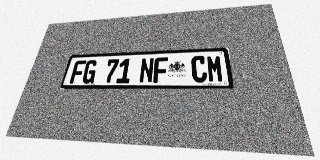1: (116, 58, 132, 83)
7: (103, 59, 119, 83)
C: (191, 55, 207, 83)
F: (69, 60, 86, 84), (153, 57, 168, 83)
G: (81, 60, 98, 84)
M: (206, 55, 224, 82)
N: (139, 58, 154, 83)
